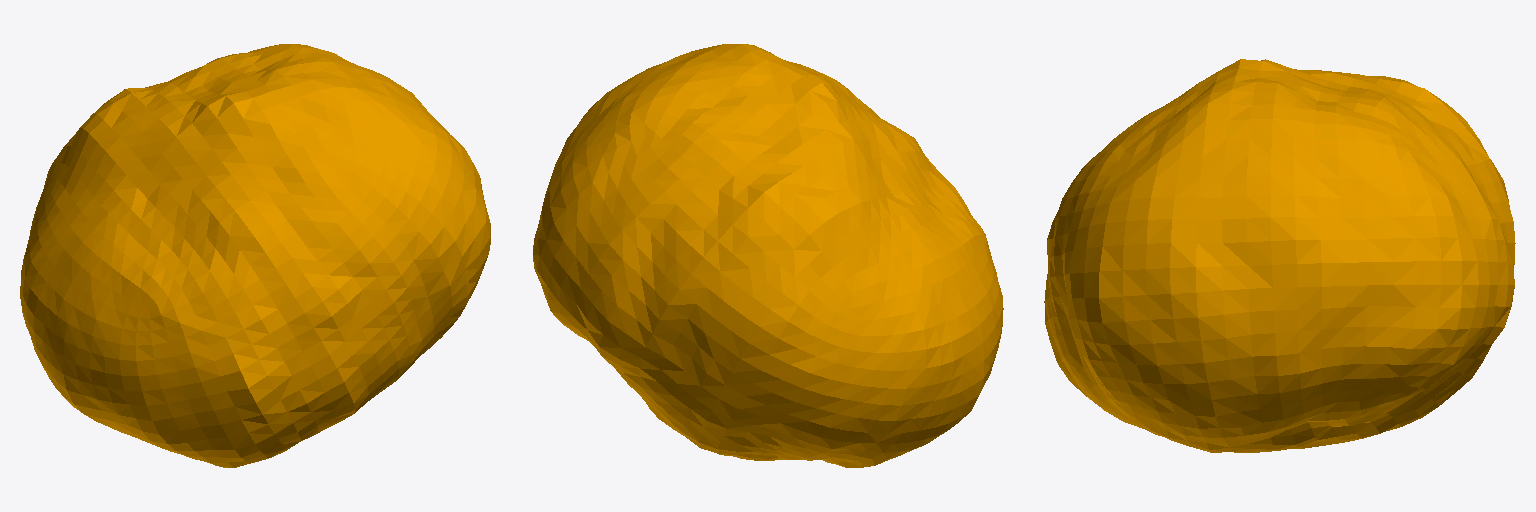
The robot description file, URDF, robot "rock":
<?xml version="1.0" ?>
<robot name="rock">
  <link name="rock">
    <inertial>
      <mass value="0.265"/>
      <origin rpy="0 0 0" xyz="0 0 0"/>
      <inertia ixx="0.000265" ixy="0" ixz="0" iyy="0.000265" iyz="0" izz="0.000265"/>
    </inertial>
    <collision name="rock_collision">
      <origin rpy="0 0 0" xyz="0 0 0"/>
      <geometry>
        <mesh filename="package://rocks/visual/136.dae" scale="1 1 1"/>
      </geometry>
    </collision>
    <visual name="rock_visual">
      <origin rpy="0 0 0" xyz="0 0 0"/>
      <geometry>
        <mesh filename="package://rocks/visual/136.dae" scale="1 1 1"/>
      </geometry>
    </visual>
  </link>
</robot>

--- What the picture shows (computed from the rendered views, not written in the file) ---
The picture shows the robot from 3 angles, left to right: view 1: azimuth 30°, elevation 25°; view 2: azimuth 150°, elevation 25°; view 3: azimuth 270°, elevation 25°; orthographic projection.
Model rock with 1 links and 0 joints (none), rooted at rock, posed every joint at zero.
Links seen in each view (by area): view 1: rock; view 2: rock; view 3: rock.
Link boxes in pixels (bbox=[...]): rock: bbox=[20, 44, 490, 467]; rock: bbox=[533, 44, 1003, 467]; rock: bbox=[1044, 59, 1515, 452].
Size in the robot's own frame: 0.0922 by 0.0854 by 0.0774 metres.
Meshes: 1 distinct files referenced, 1 mesh visuals loaded (1 Collada DAE).